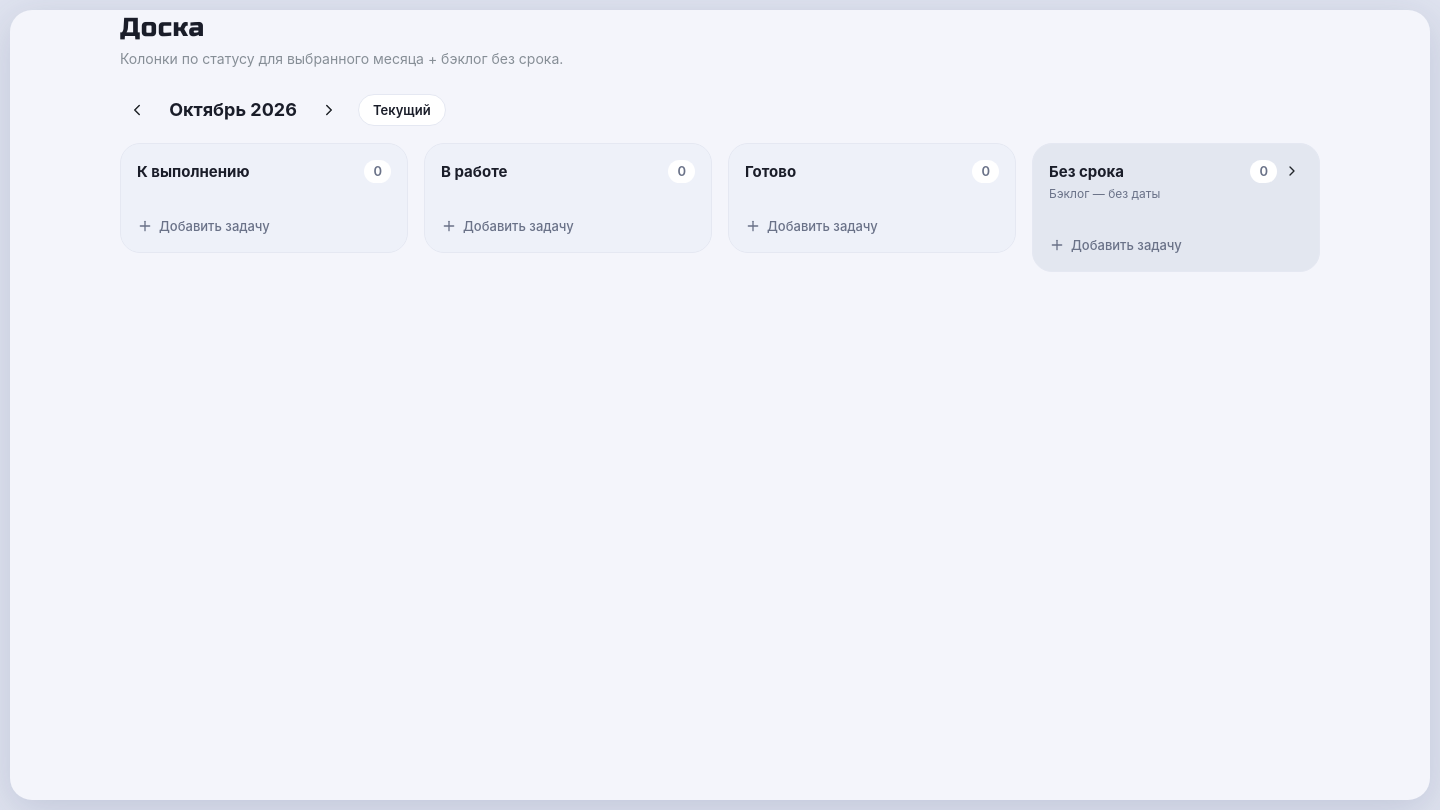
Test: BoardPage › листание месяцев
Expected: the heading "Октябрь 2026" is shown, [158,97,308,123]
Click the button named "Следующий месяц" at (329, 110), box [312,93,346,127]
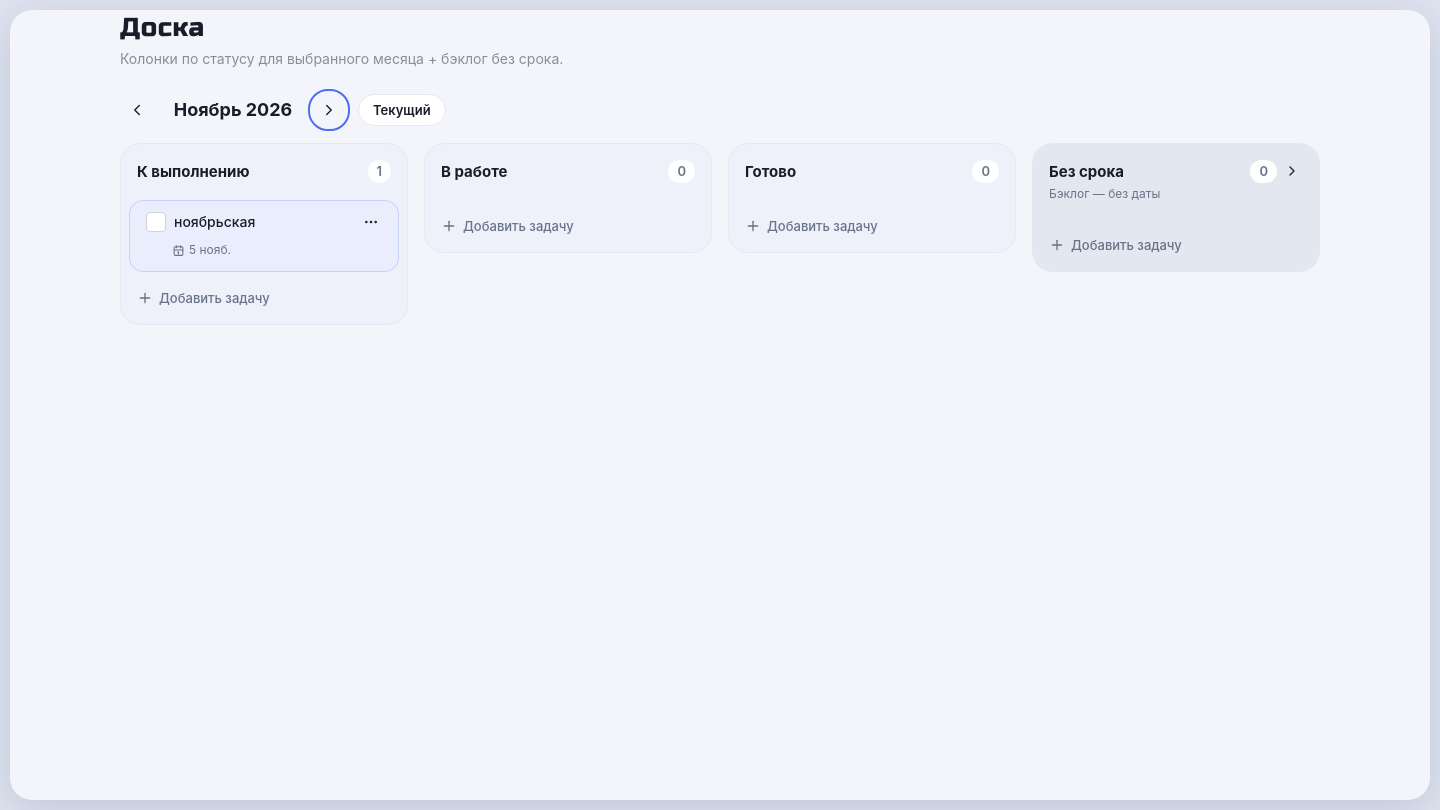
Expected: the heading "Ноябрь 2026" is shown, [174,99,292,120]
Expected: the text "ноябрьская" is shown, [174,213,255,230]
Click the button "Текущий" at (402, 110), box [358,94,446,126]
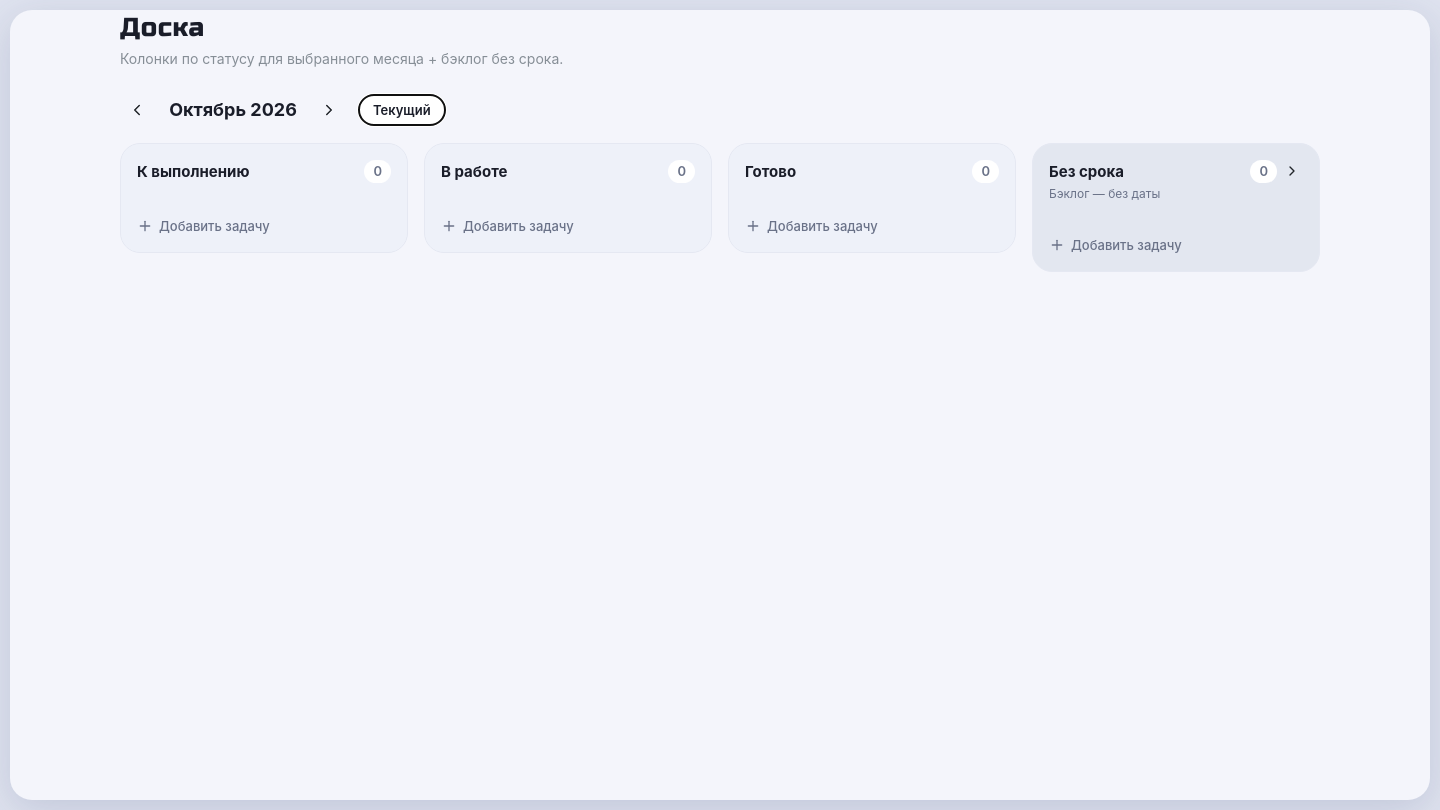
Expected: the heading "Октябрь 2026" is shown, [158,97,308,123]
